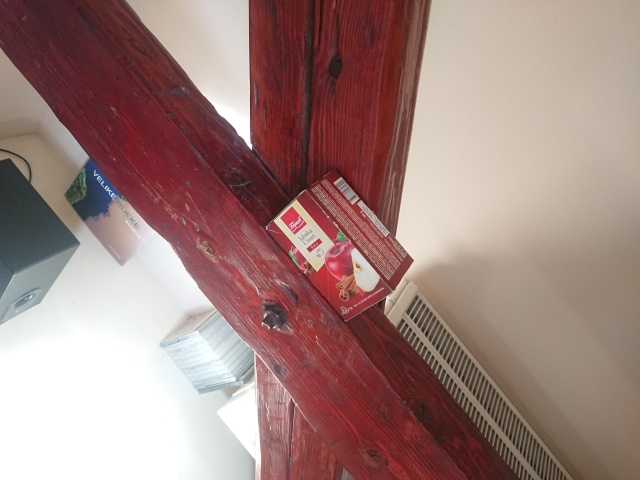Franck Apple Cinnamon Tea 60g: (262, 166, 417, 324)
